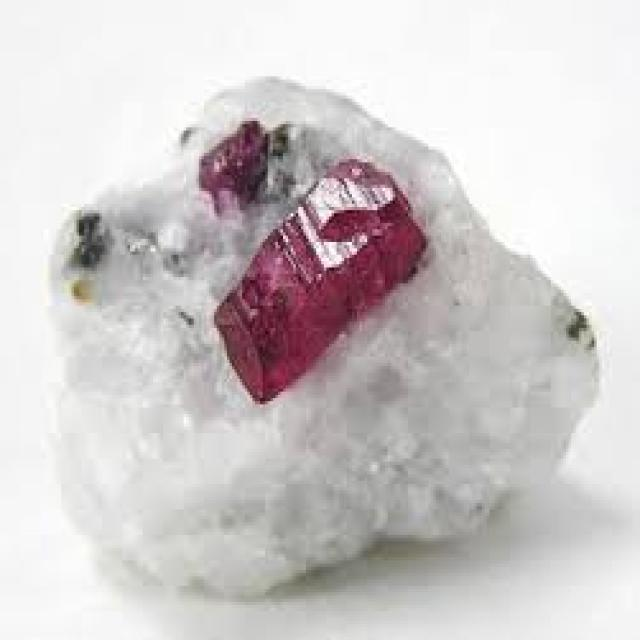Metamorphic: (23, 80, 607, 598)
